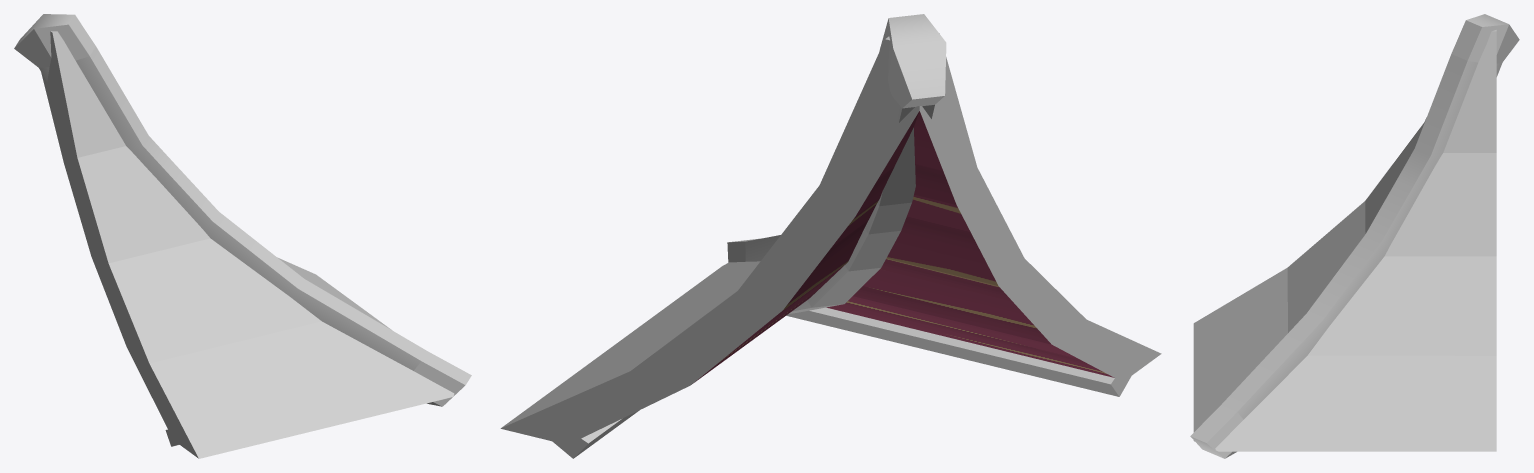
Rendered from SM_Bld_Roof_S_Concave_Corner_Out_01.fbx.
3 renders of one model, left to right at view 1: azimuth 30°, elevation 25°; view 2: azimuth 150°, elevation 25°; view 3: azimuth 270°, elevation 25°, orthographic. The views are drawn at different scales.
Parts seen in each view (by area): view 1: SM_Bld_Roof_S_Concave_Corner_Out_01; view 2: SM_Bld_Roof_S_Concave_Corner_Out_01; view 3: SM_Bld_Roof_S_Concave_Corner_Out_01.
Part boxes in pixels (x1=…): SM_Bld_Roof_S_Concave_Corner_Out_01: x1=14, y1=14, x2=471, y2=458; SM_Bld_Roof_S_Concave_Corner_Out_01: x1=500, y1=14, x2=1161, y2=458; SM_Bld_Roof_S_Concave_Corner_Out_01: x1=1190, y1=14, x2=1519, y2=458.
Size of the model in its own units: 148 by 159 by 148.
